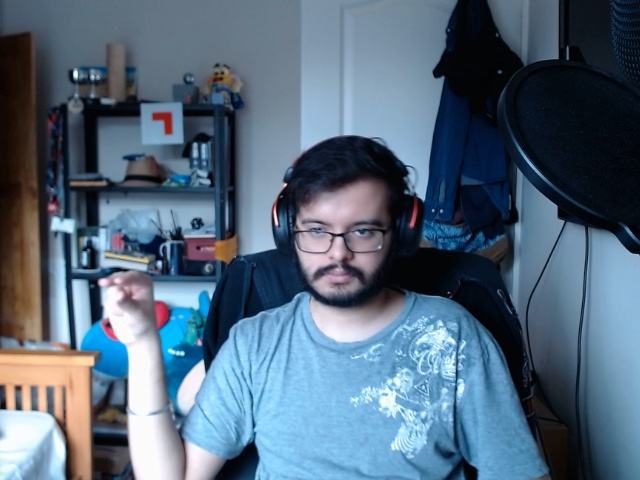No: (88, 262, 166, 361)
